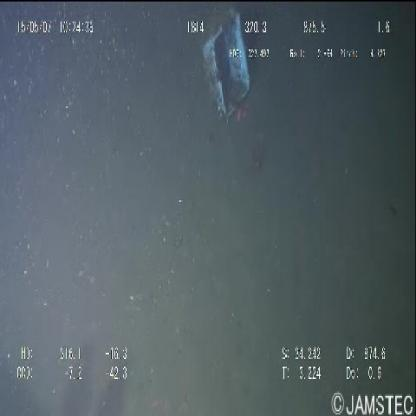Rác: (199, 6, 254, 126)
